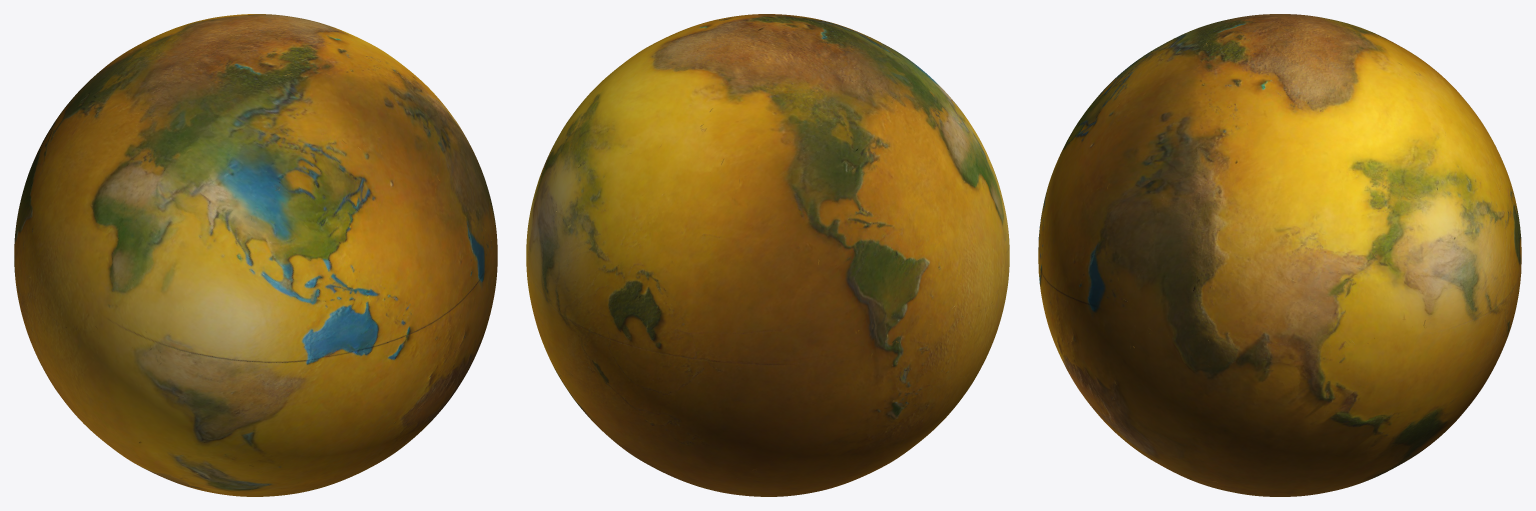
The model's file is yellow-earth.glb.
3 views of the same model, side by side, from view 1: azimuth 30°, elevation 25°; view 2: azimuth 150°, elevation 25°; view 3: azimuth 270°, elevation 25° (orthographic).
Bounding box in the file's own units: 2 × 2 × 2.
1 material, 1 textured.
